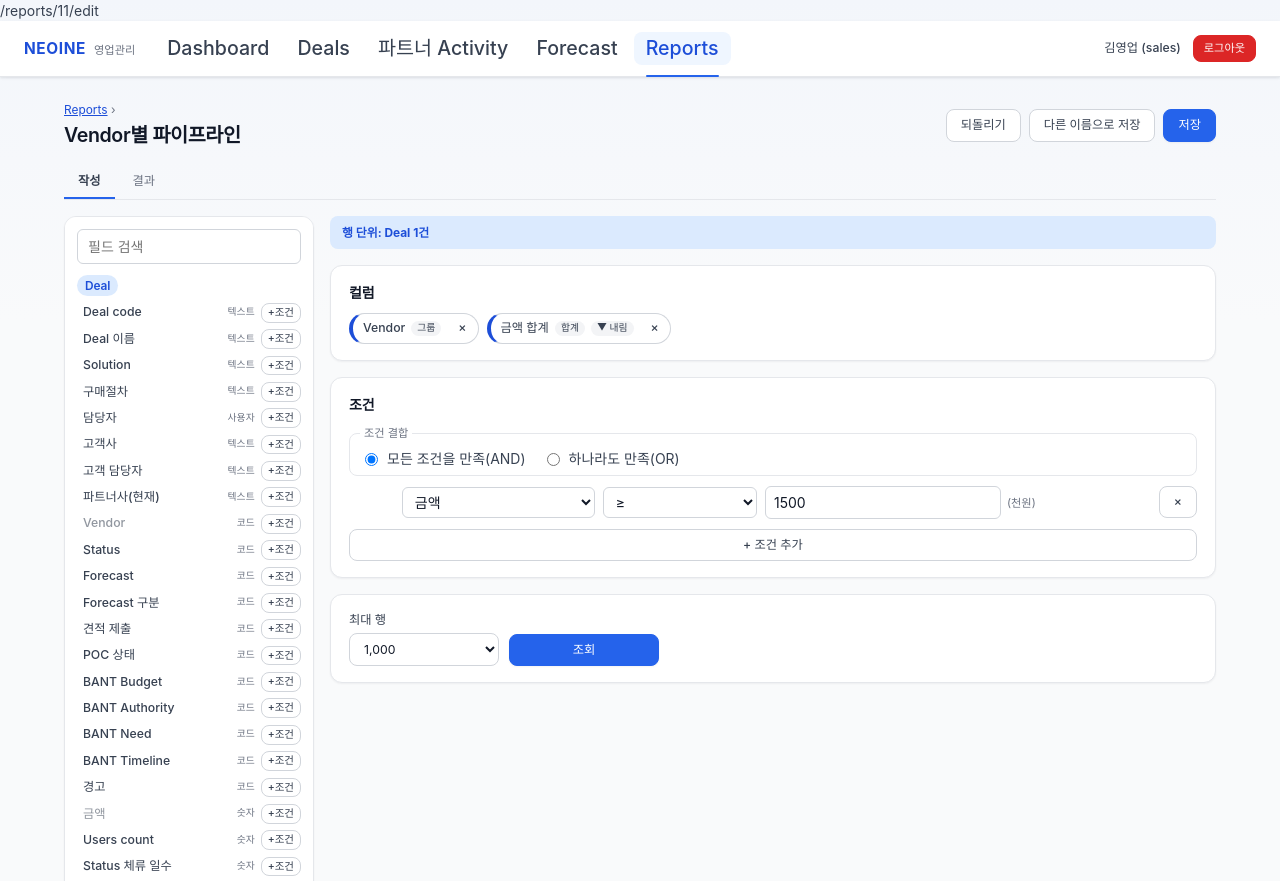
Test: 편집 화면에서 떠날 때 확인 (AC18, S19) › asks with the unsaved changes message on the edit page and stays on cancel
The image size is (1280, 881).
Click the button with aria-label "Deal code 컬럼에 추가". click: point(149, 313)
box: [77,300,222,325]
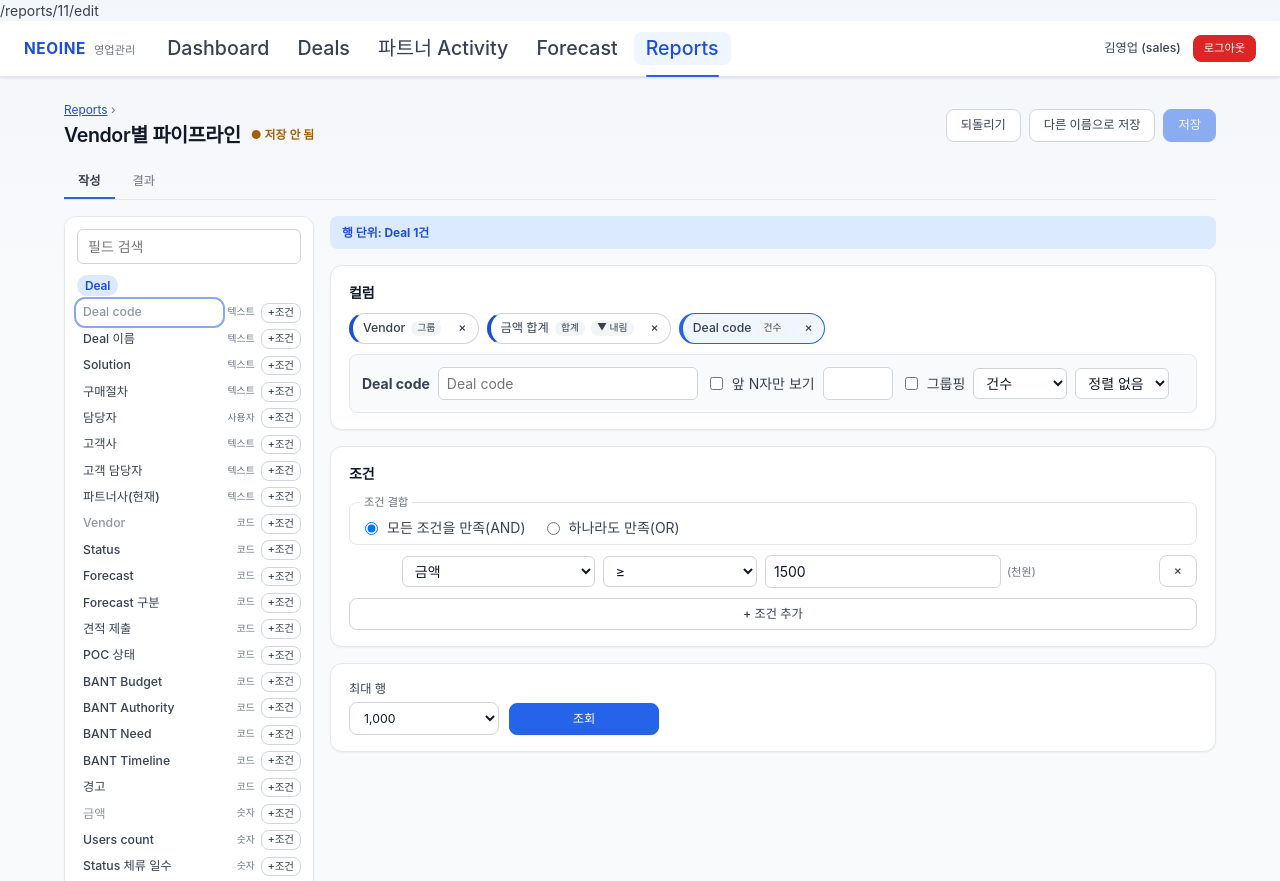
Click the button "Deal code 건수". click: point(740, 329)
box: [685,316,796,341]
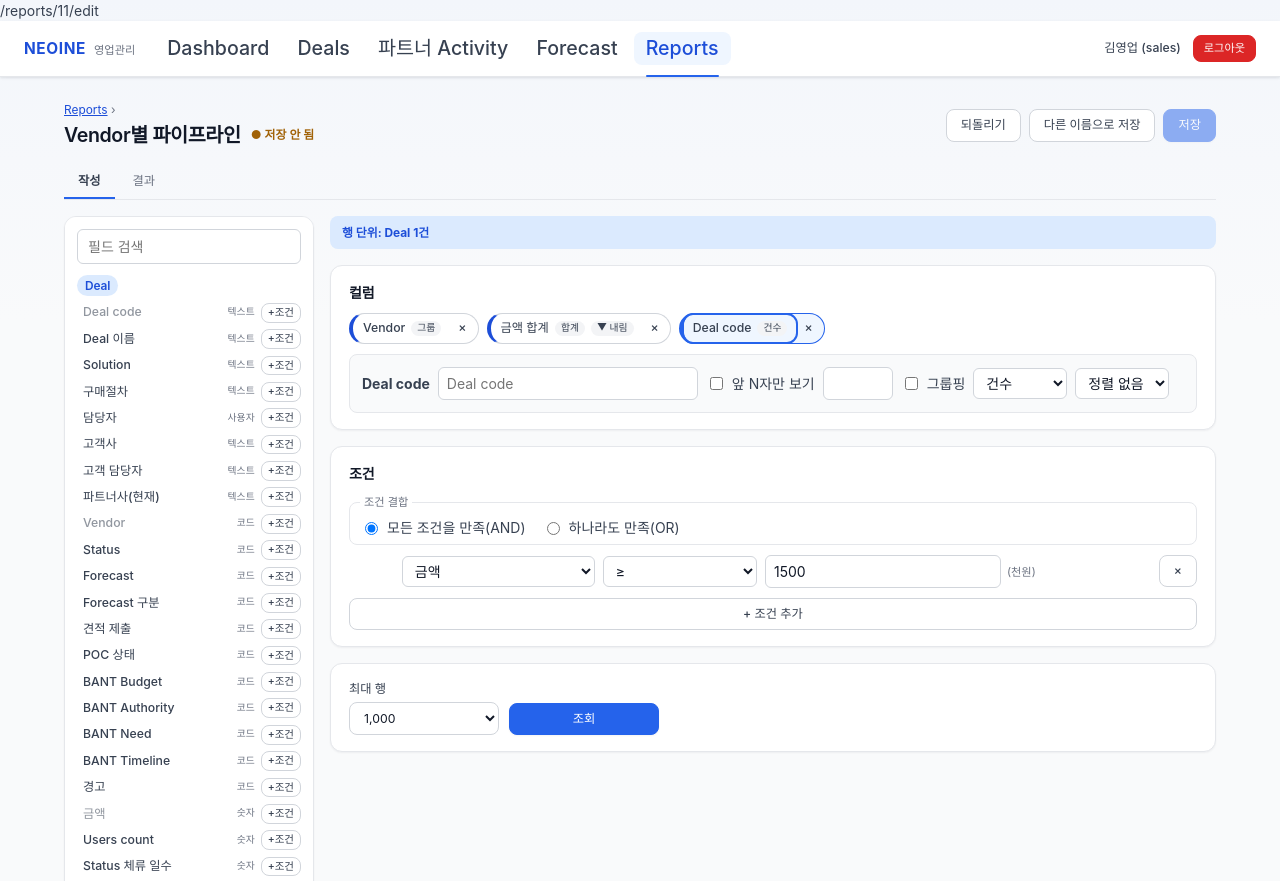
Select "건수" in the dropdown named "집계". click: point(1020, 383)
box: [973,368,1067,399]
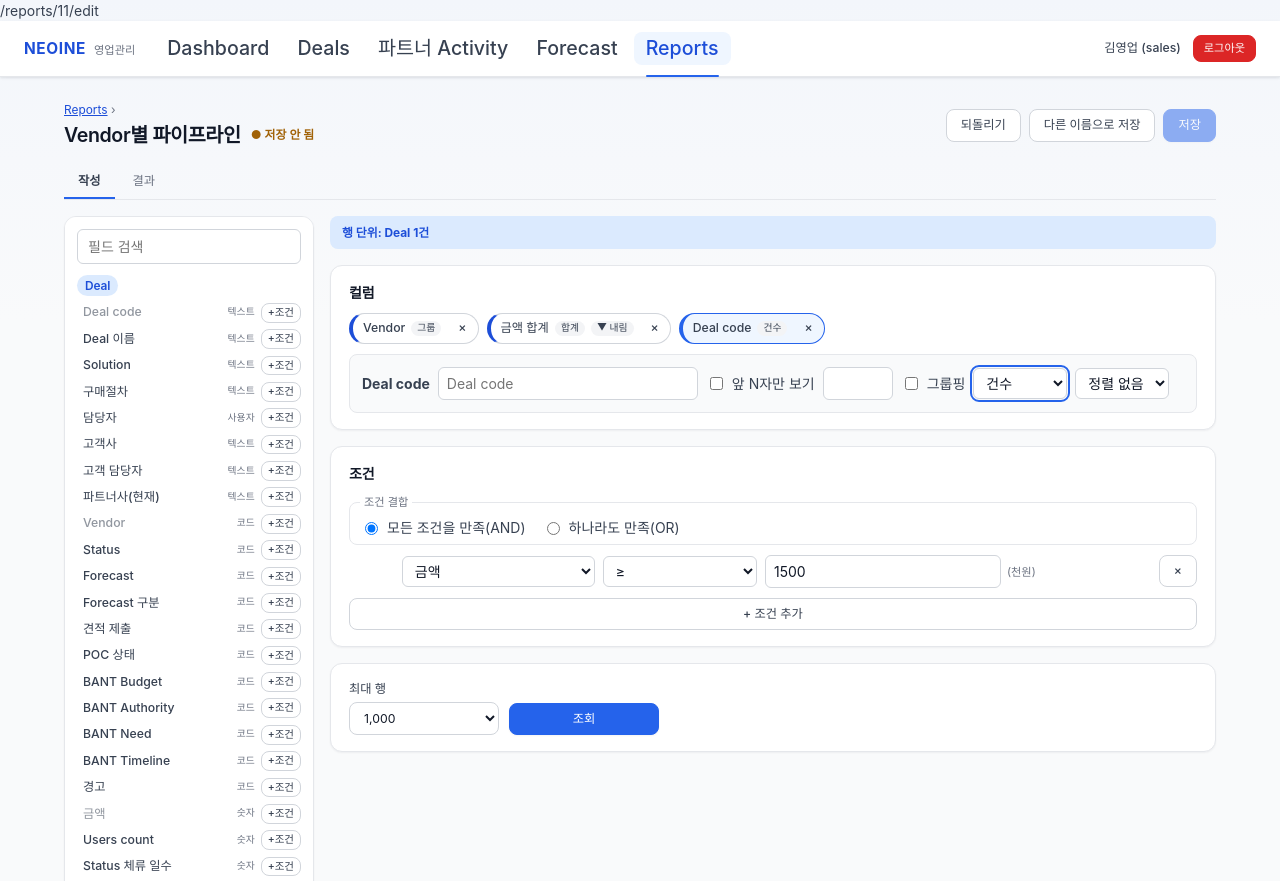
Click the link "Deals". click: point(324, 48)
box: [297,36,350,60]
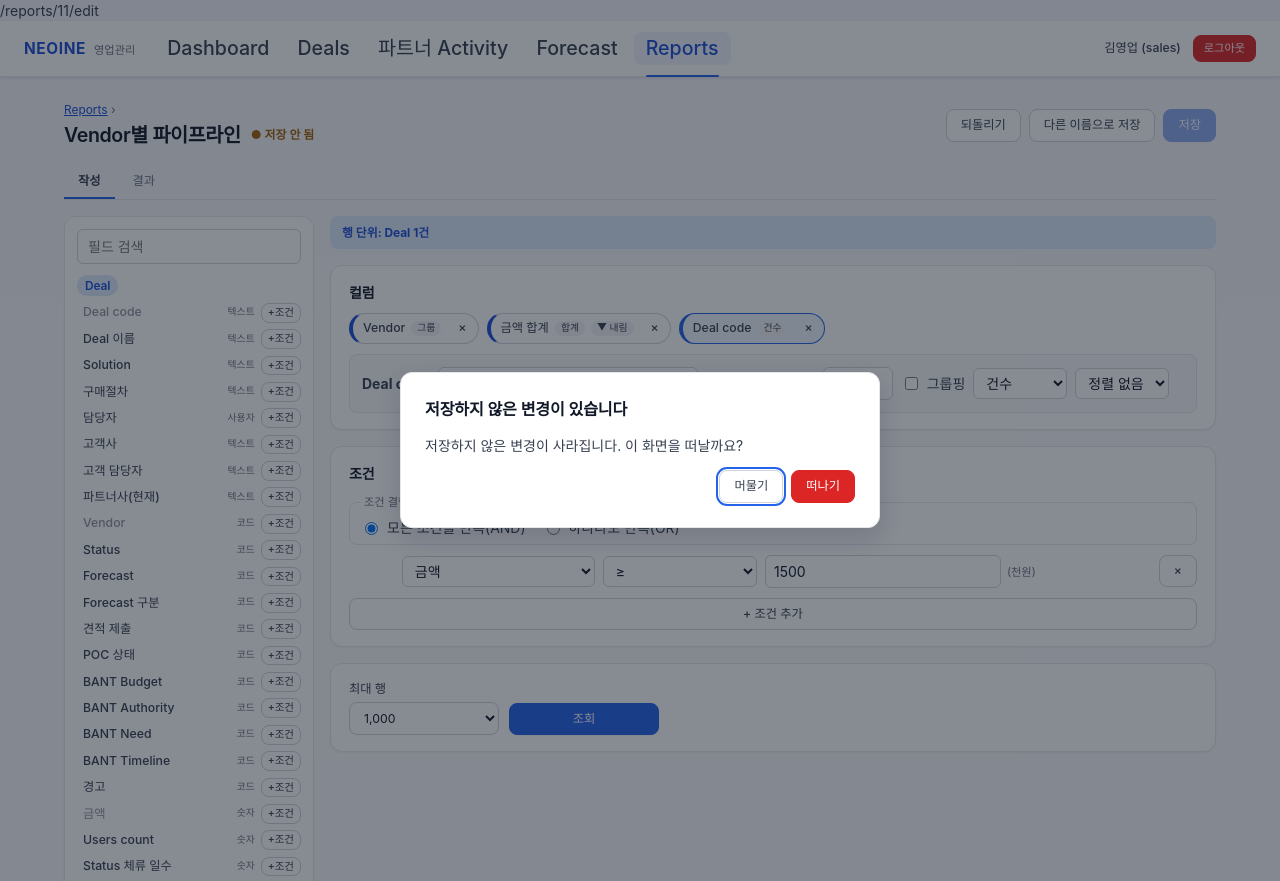
Expected: the dialog "저장하지 않은 변경이 있습니다" shows "저장하지 않은 변경이 사라집니다. 이 화면을 떠날까요?", [425,437,743,454]
Click the button "머물기". click: point(751, 487)
box: [719,470,783,503]
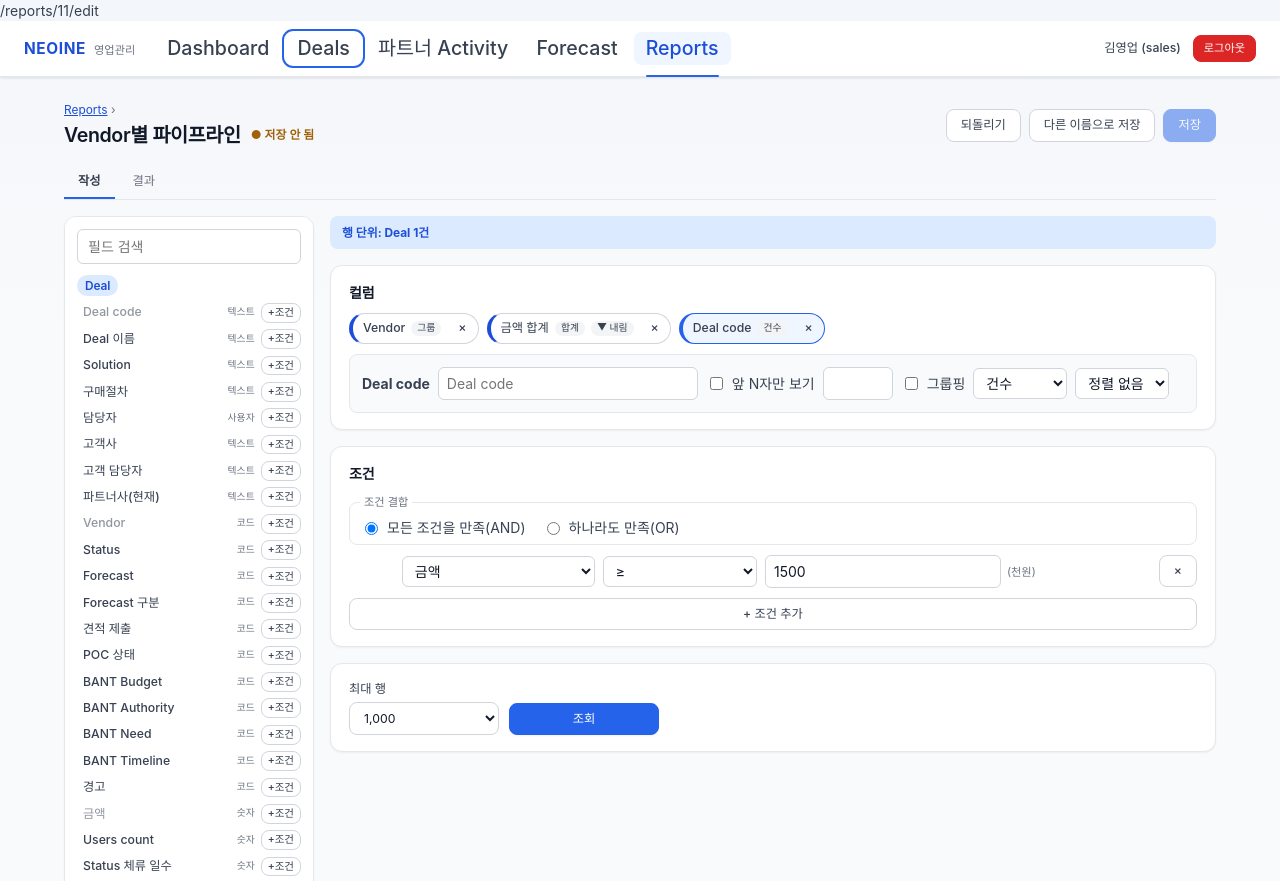
Expected: the text with test id "location" reads "/reports/11/edit", [0,2,99,19]
Expected: the text "● 저장 안 됨" is shown, [251,126,314,144]
Expected: the dialog is gone
